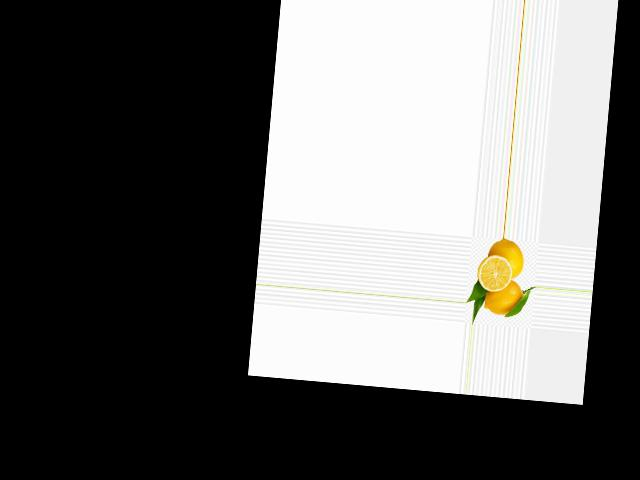lemon: (483, 237, 525, 277)
